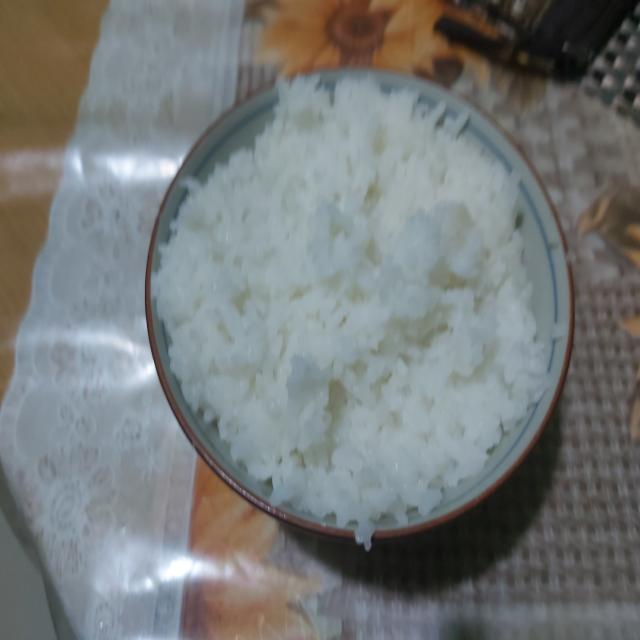Chicken -Chicken Inasal-: (150, 59, 578, 539)
